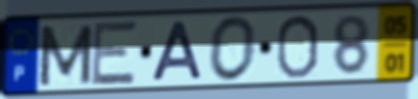8: (329, 13, 373, 76)
A: (149, 20, 206, 84)
E: (89, 19, 140, 88)
M: (36, 22, 96, 88)
O: (207, 14, 259, 84), (274, 12, 322, 81)
